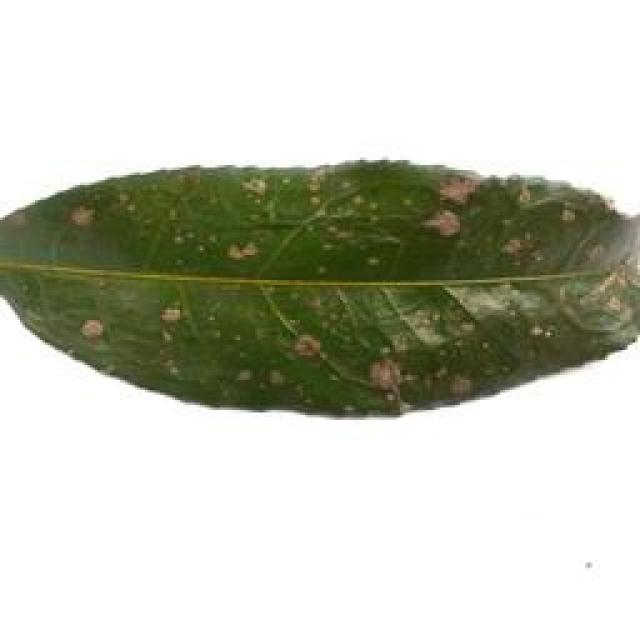Algal Leaf Spot: (2, 149, 640, 419)
